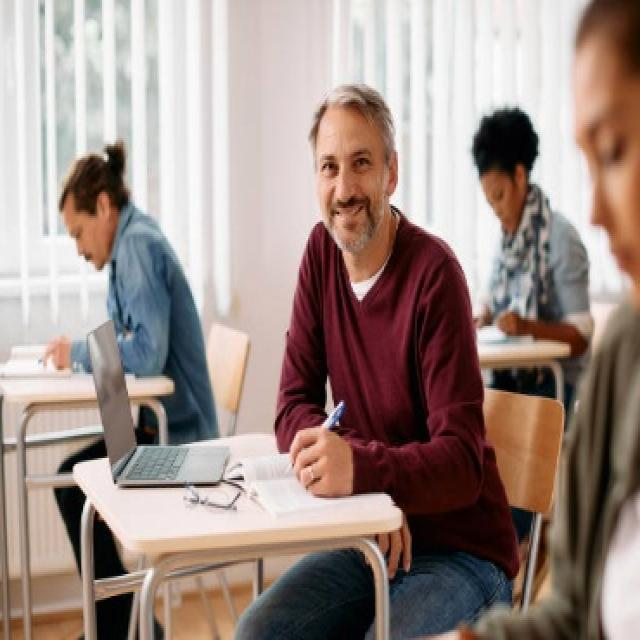adult: (235, 94, 504, 640), (29, 136, 182, 448), (462, 91, 596, 372)
